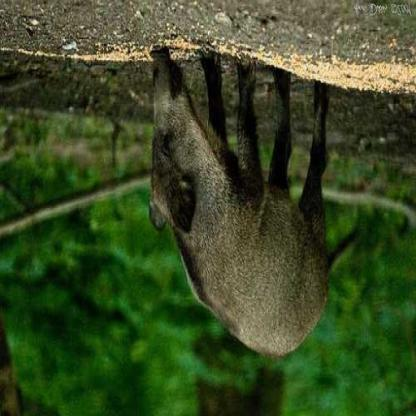boar: (143, 46, 342, 353)
